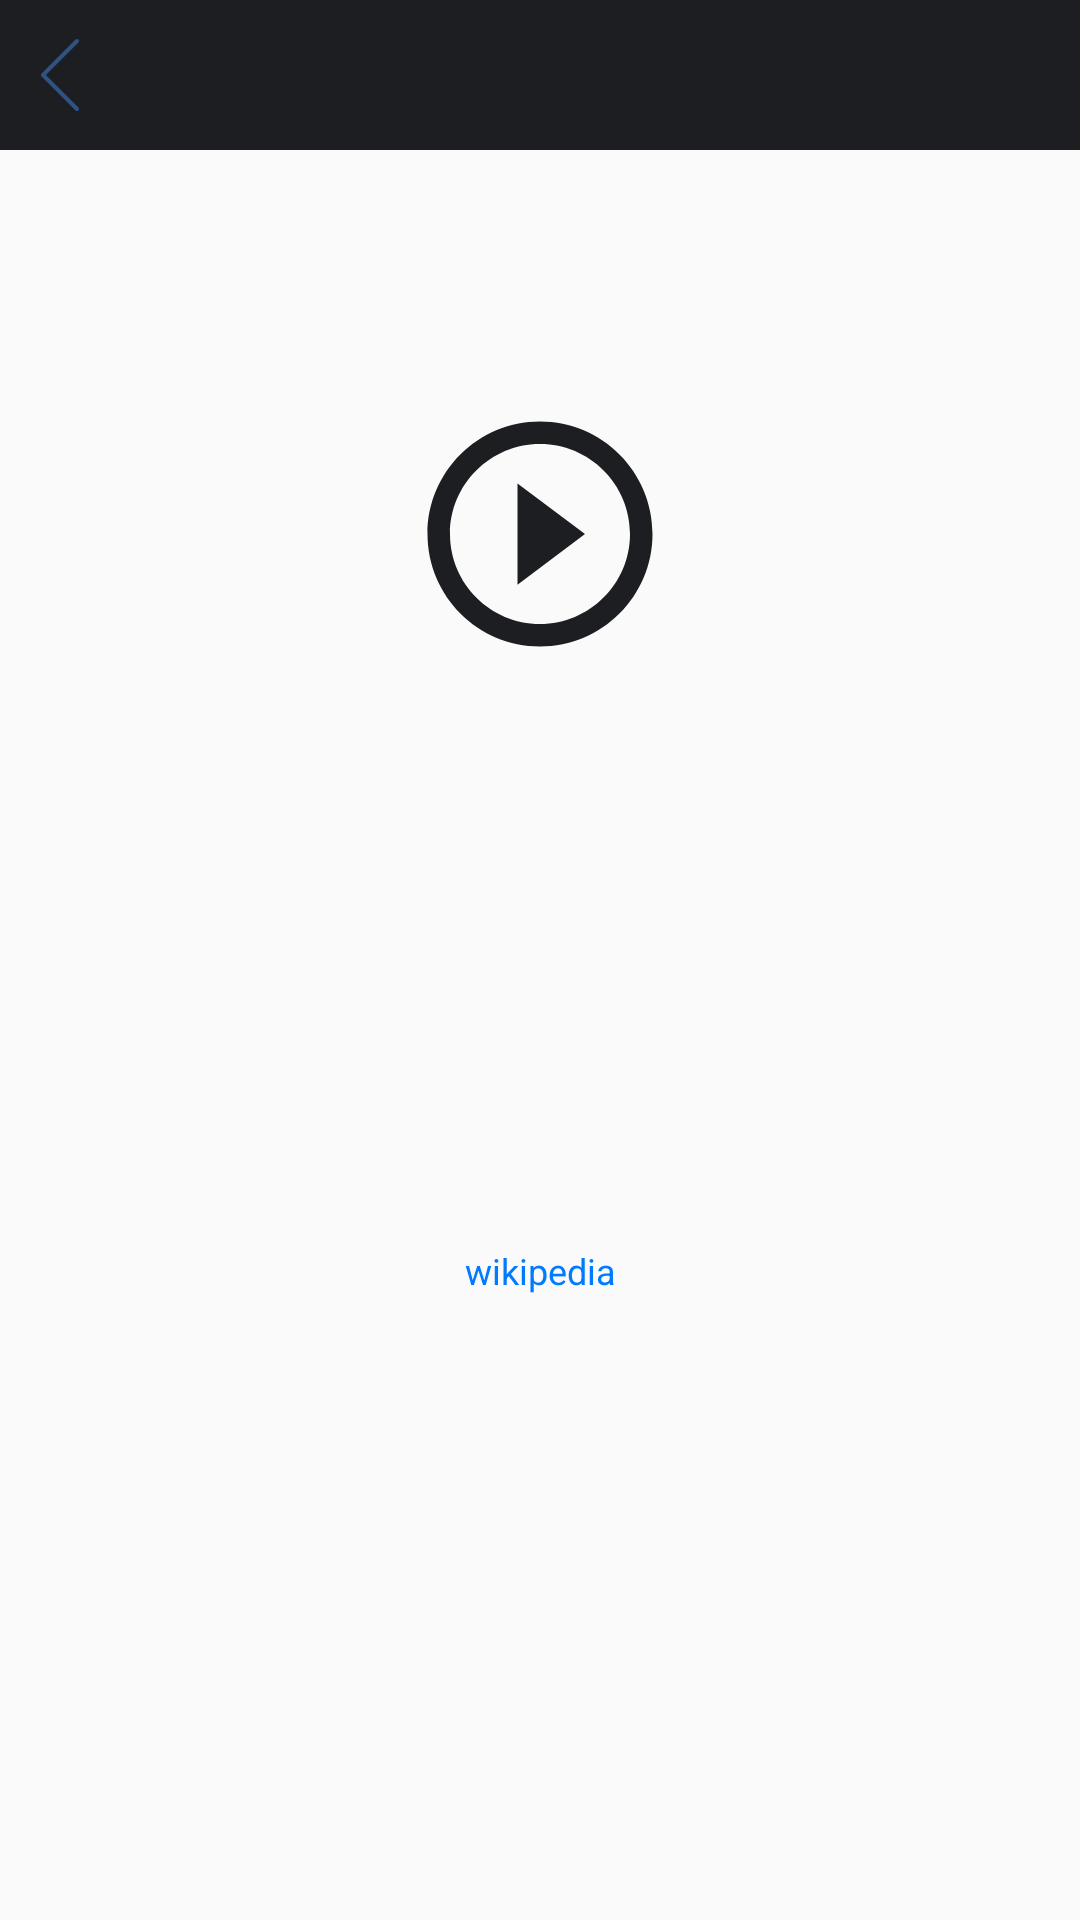

Locate icon controls on the screen. Image size 1080 × 1920, boxes as (x1, y1, x2, y2).
back: (41, 39, 79, 111)
play: (427, 421, 653, 647)
